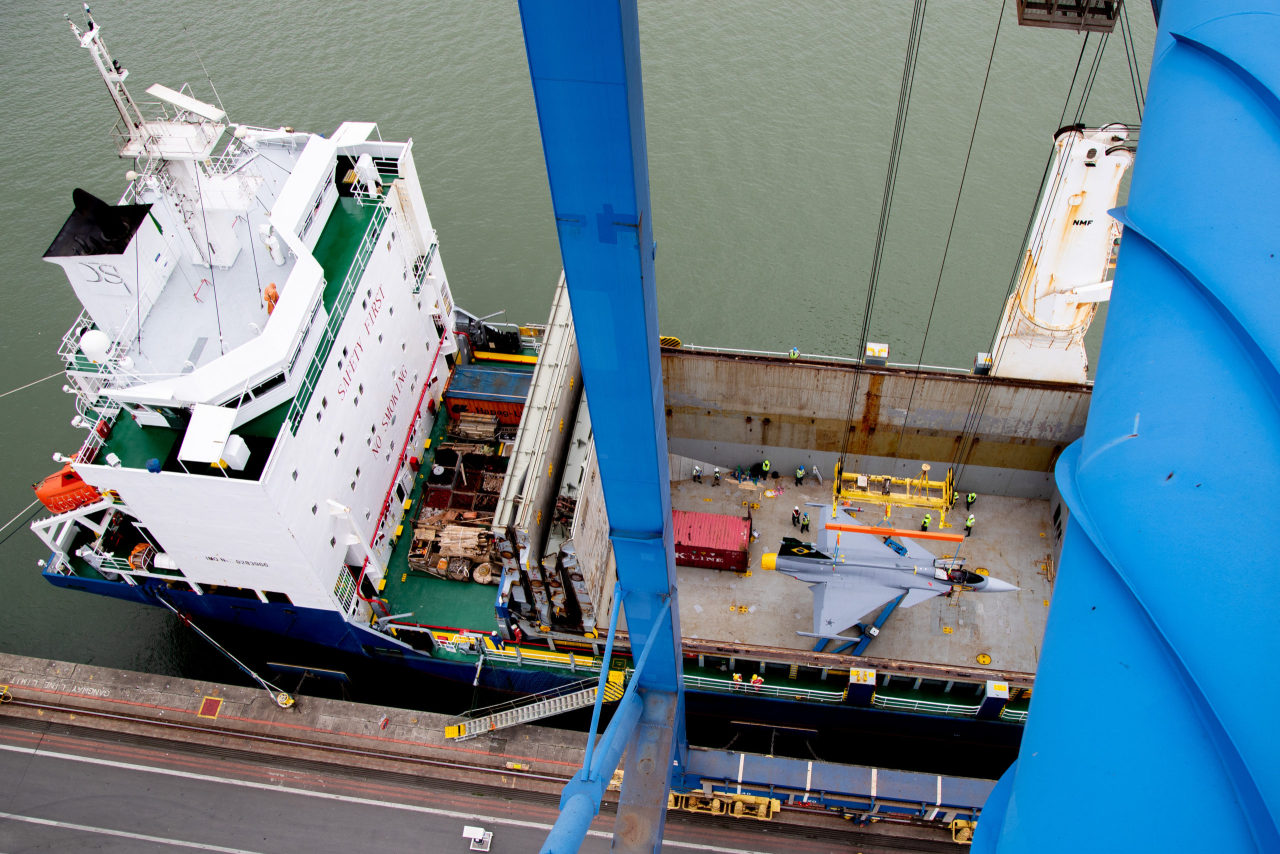JAS39: (761, 501, 1032, 642)
